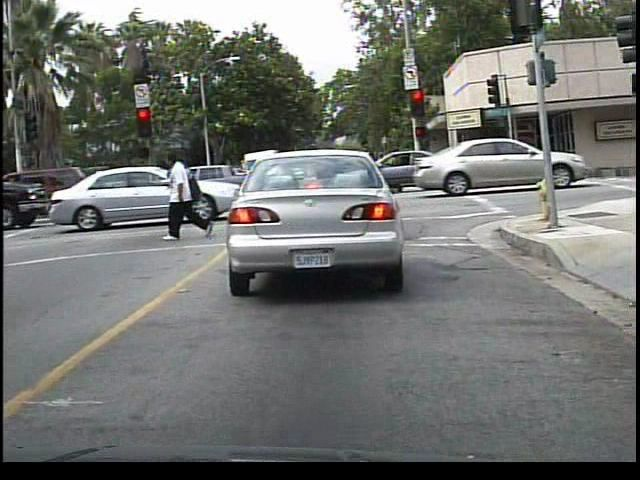person: (164, 152, 217, 243)
